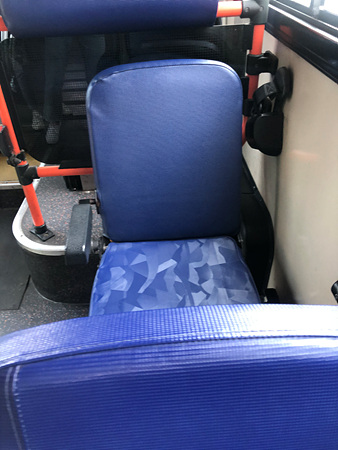seat: (91, 63, 254, 300)
